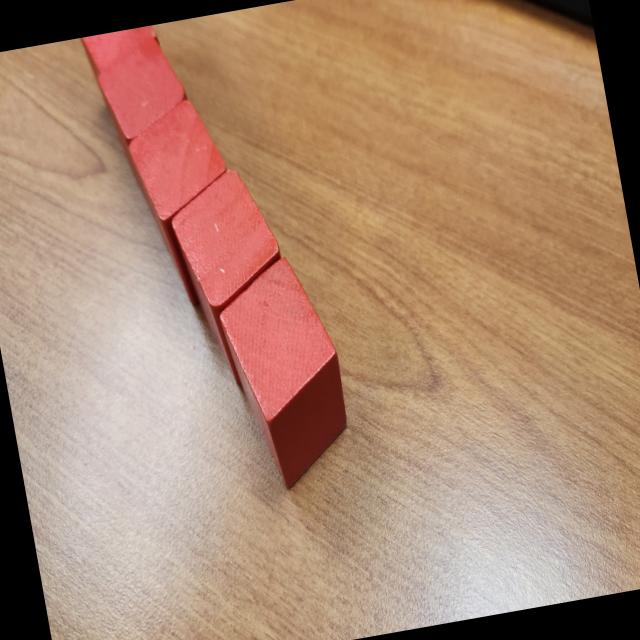red: (208, 250, 360, 500), (163, 161, 306, 394), (120, 94, 248, 314), (92, 32, 198, 174), (80, 26, 166, 94)
